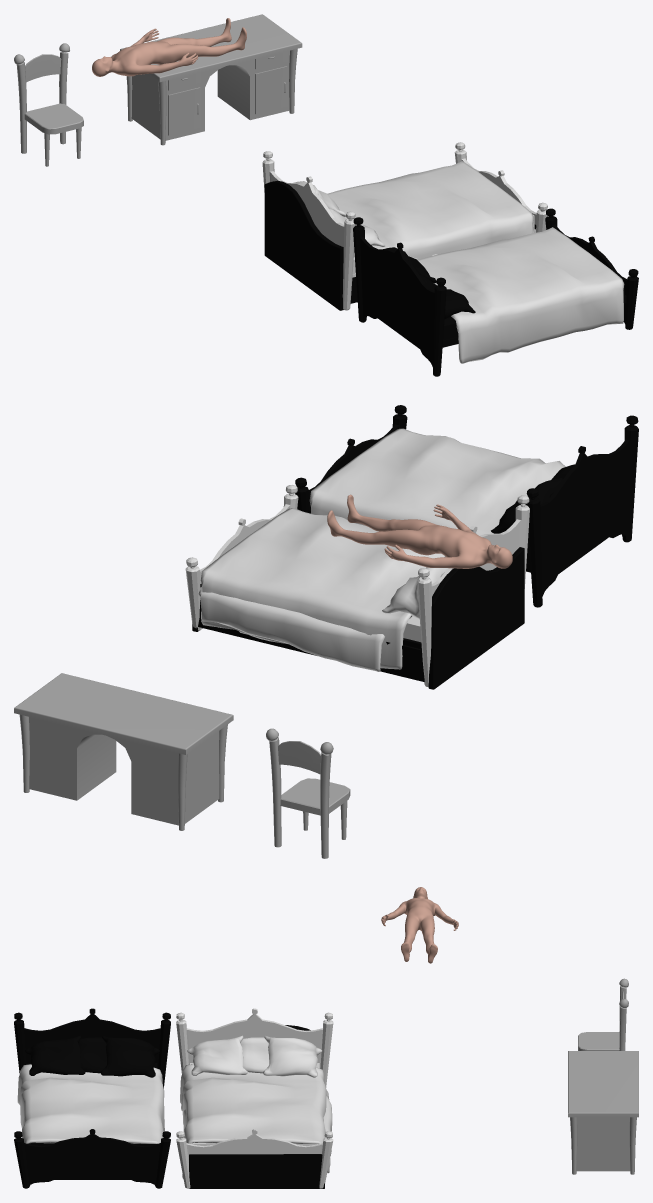
Rendered from Interior_Modern_Bed.fbx.
3 renders of one model, top to bottom at view 1: azimuth 30°, elevation 25°; view 2: azimuth 150°, elevation 25°; view 3: azimuth 270°, elevation 25°, orthographic. The views are drawn at different scales.
Visible parts, largest first — view 1: Bed combined, Desk_Cottage, Cube.016, Bed2 combined, Player_Body, Chair_Cottage, Cube.020, Cube.019, Cube.015; view 2: Bed combined, Desk_Cottage, Cube.016, Bed2 combined, Player_Body, Chair_Cottage, Cube.020, Cube.019, Cube.015; view 3: Bed combined, Cube.016, Desk_Cottage, Bed2 combined, Cube.015, Cube.020, Cube.019, Player_Body, Chair_Cottage, Cube.017.
Boxes of the visible parts, left/top/right/bottom form: Bed combined: left=353, top=208, right=638, bottom=376; Desk_Cottage: left=120, top=14, right=302, bottom=145; Cube.016: left=327, top=161, right=533, bottom=259; Bed2 combined: left=264, top=180, right=536, bottom=310; Player_Body: left=92, top=18, right=246, bottom=76; Chair_Cottage: left=14, top=43, right=83, bottom=166; Cube.020: left=262, top=151, right=355, bottom=310; Cube.019: left=454, top=142, right=547, bottom=232; Cube.015: left=293, top=181, right=384, bottom=253; Bed combined: left=295, top=405, right=638, bottom=607; Desk_Cottage: left=14, top=673, right=233, bottom=830; Cube.016: left=200, top=508, right=444, bottom=669; Bed2 combined: left=192, top=547, right=524, bottom=689; Player_Body: left=327, top=494, right=512, bottom=568; Chair_Cottage: left=266, top=728, right=350, bottom=858; Cube.020: left=417, top=495, right=529, bottom=687; Cube.019: left=185, top=485, right=298, bottom=630; Cube.015: left=382, top=556, right=447, bottom=618; Bed combined: left=14, top=1008, right=170, bottom=1188; Cube.016: left=180, top=1064, right=326, bottom=1143; Desk_Cottage: left=568, top=1051, right=638, bottom=1174; Bed2 combined: left=181, top=1025, right=332, bottom=1188; Cube.015: left=187, top=1035, right=322, bottom=1077; Cube.020: left=176, top=1008, right=333, bottom=1087; Cube.019: left=176, top=1129, right=333, bottom=1188; Player_Body: left=381, top=887, right=458, bottom=963; Chair_Cottage: left=578, top=978, right=628, bottom=1050; Cube.017: left=240, top=1037, right=269, bottom=1073.
Bounding box in the file's own units: 407 × 229 × 765.
